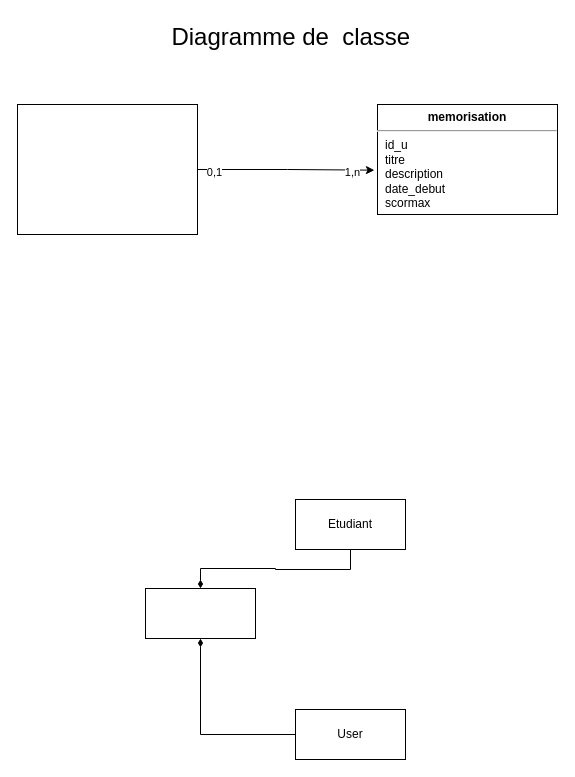
Image size: 575x777. Some labels were removed from this diagram. Each missing label, with the box of its shape:
Mémorisation: (144, 588, 256, 638)
utilisateur id_u nom prenom email role password: (16, 104, 198, 234)
